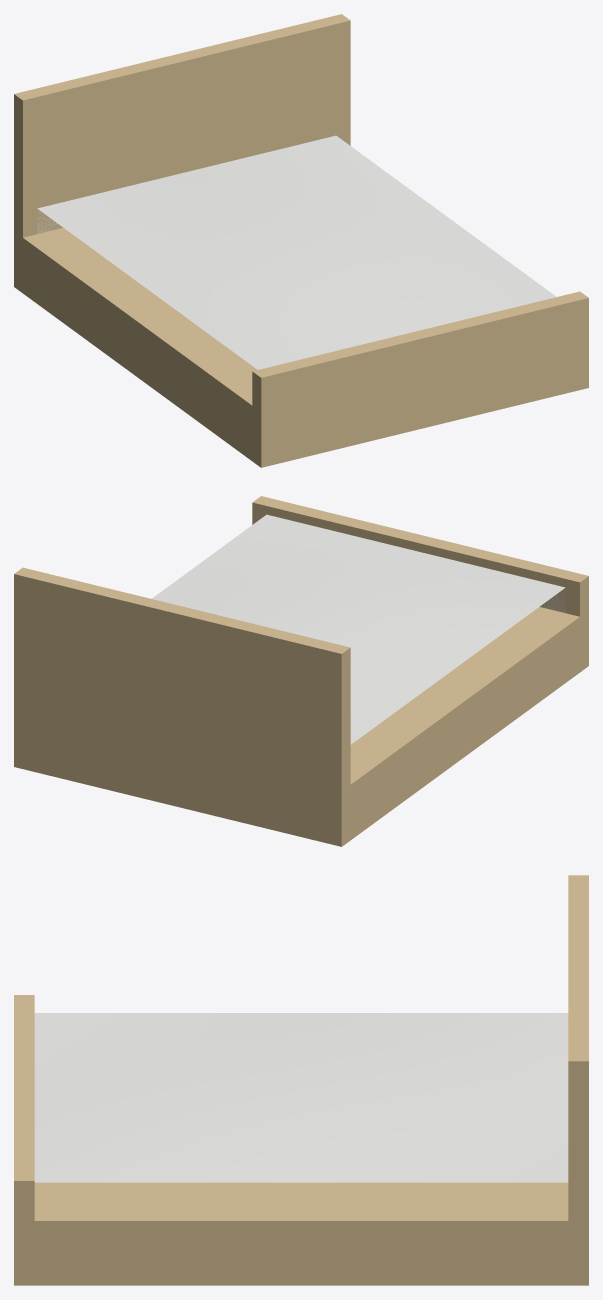
File: ikea-malm-bed-140.glb
3 renders of one model, top to bottom at view 1: azimuth 30°, elevation 25°; view 2: azimuth 150°, elevation 25°; view 3: azimuth 270°, elevation 25°, orthographic. The views are drawn at different scales.
Bounding box in the file's own units: 1.6 × 0.9 × 2.09.
